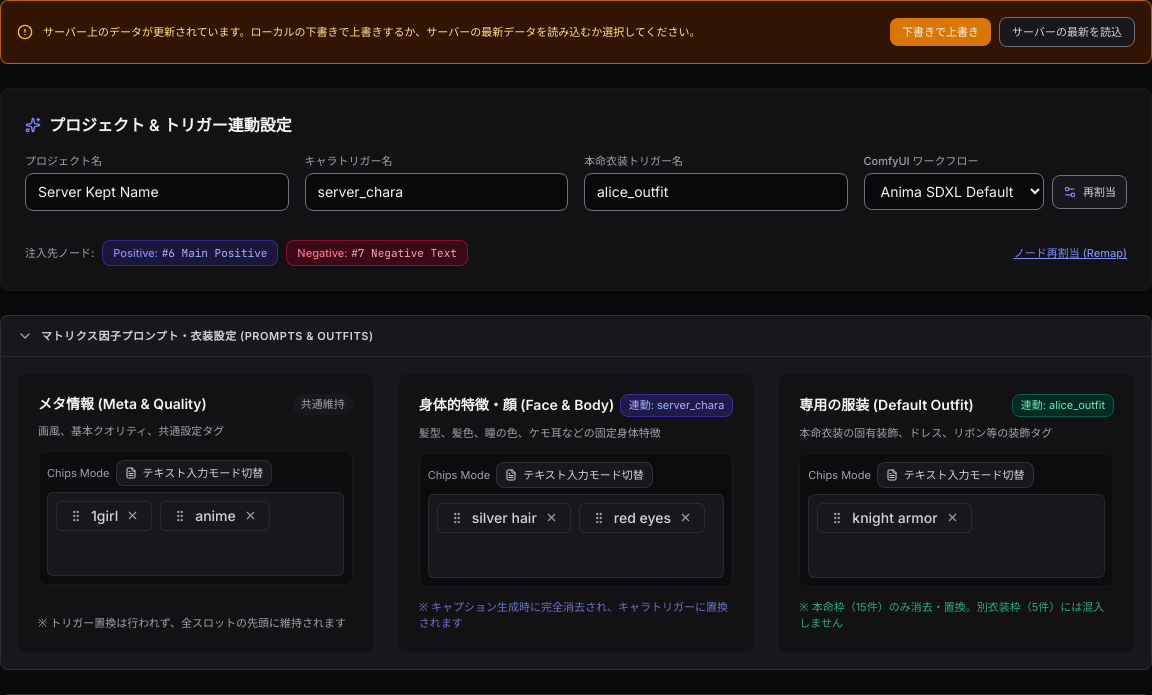
Scenario: MatrixGenerationStep › displays draft-conflict-alert and resolves conflict with server (Red Team 5)
Expected: the element with test id "draft-conflict-alert" is shown, [0,0,1151,64]
Note: Click "サーバーの最新を読込"
Step 1. Click the button with test id "resolve-conflict-server-btn" → (1067, 32), box [999,17,1135,47]
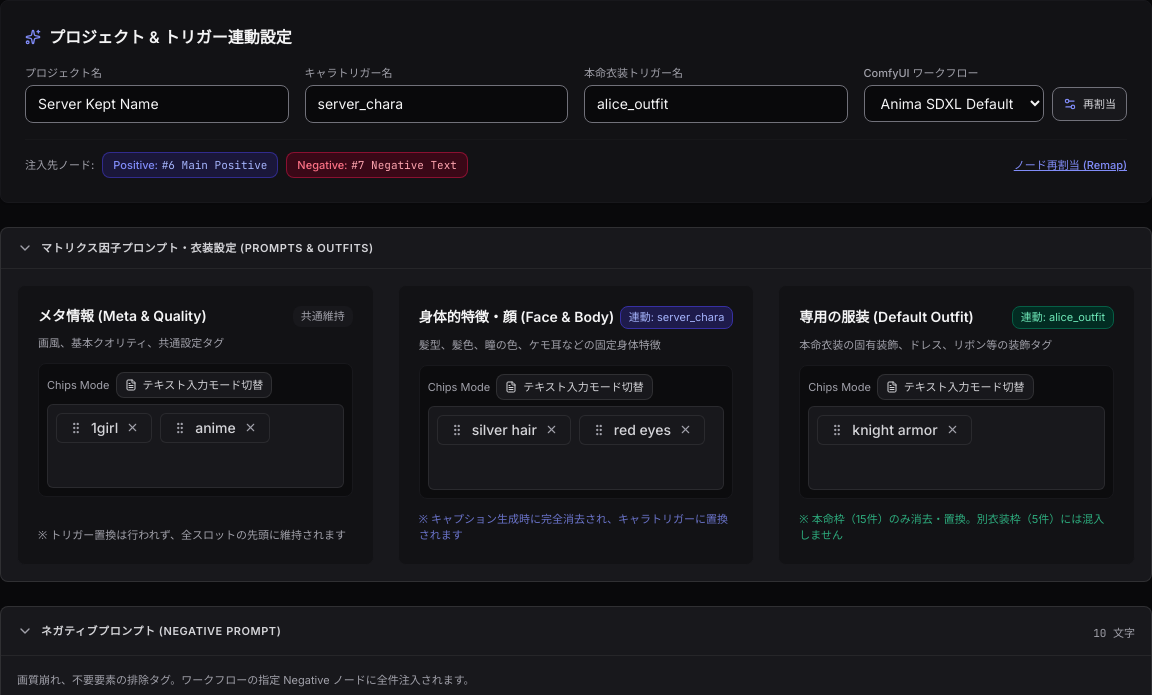
Expected: the field with test id "project-name-input" holds "Server Kept Name", [25,85,288,123]
Now the element with test id "draft-conflict-alert" is gone
